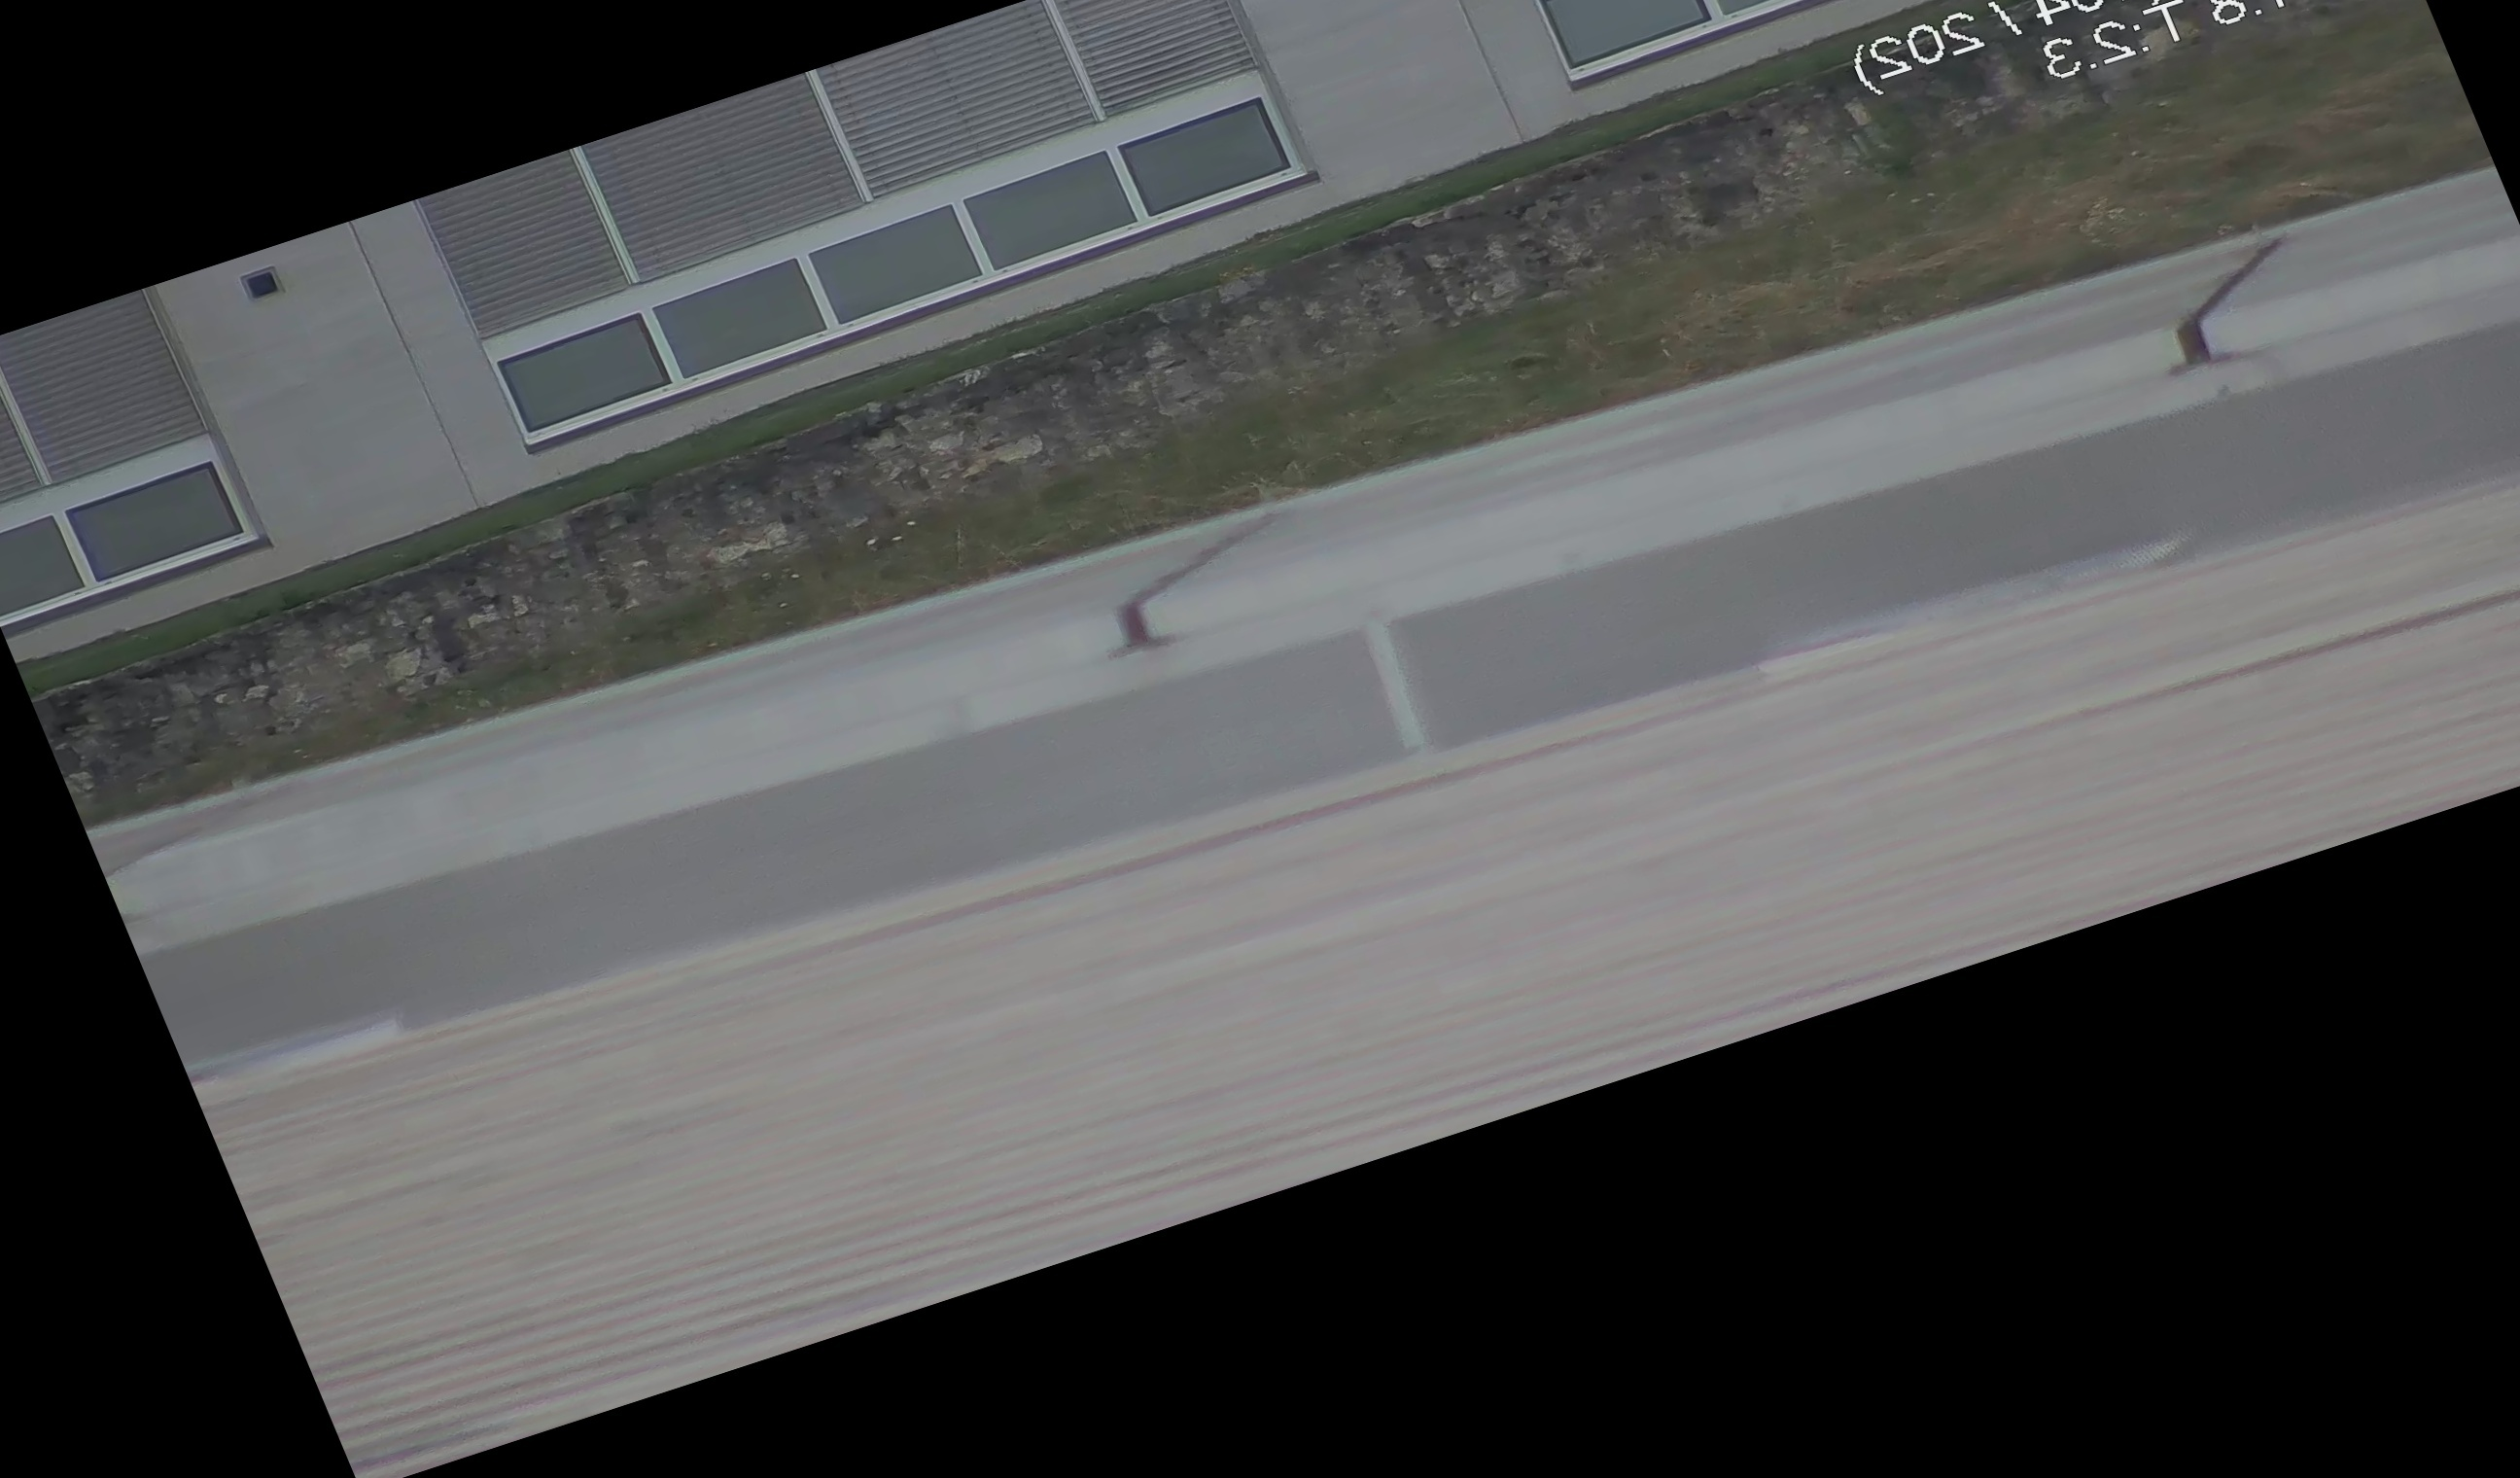Other: (2138, 216, 2348, 391)
